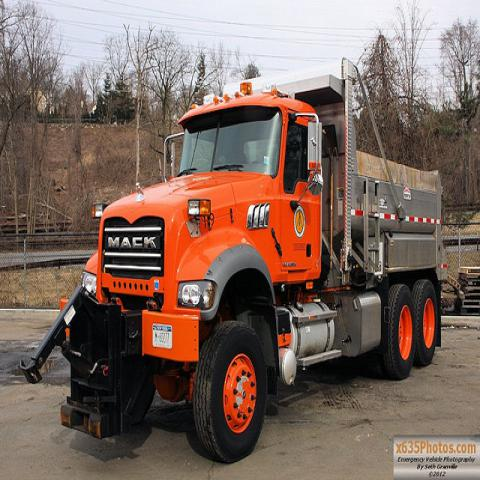truck: (23, 59, 442, 465)
